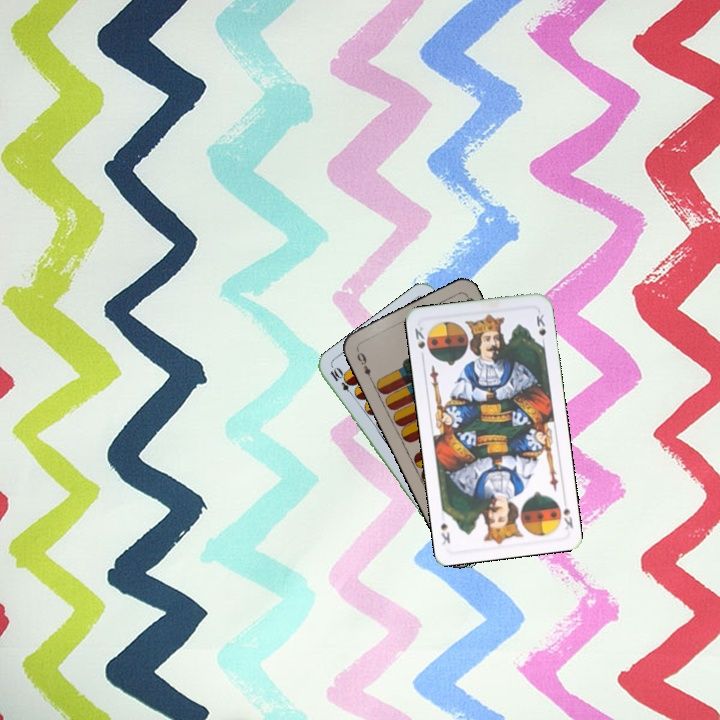E10: (326, 364, 358, 400)
E9: (352, 345, 375, 384)
SK: (411, 323, 432, 357), (559, 494, 576, 532)
